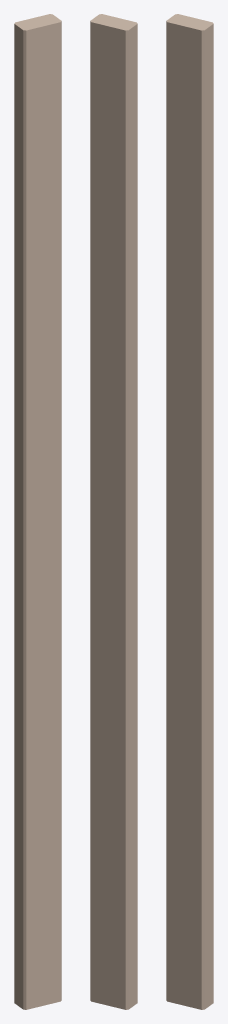
File: Stud.fbx
The picture shows the model from 3 angles, left to right: view 1: azimuth 30°, elevation 25°; view 2: azimuth 150°, elevation 25°; view 3: azimuth 330°, elevation 25°; orthographic projection.
Visible parts, largest first — view 1: stud, stud_short; view 2: stud, stud_short; view 3: stud, stud_short.
Part boxes in pixels (x1=…): stud: x1=14, y1=14, x2=61, y2=1009; stud_short: x1=14, y1=440, x2=61, y2=590; stud: x1=90, y1=14, x2=137, y2=1009; stud_short: x1=90, y1=440, x2=137, y2=590; stud: x1=166, y1=14, x2=213, y2=1009; stud_short: x1=166, y1=440, x2=213, y2=590.
Bounding box in the file's own units: 10 × 244 × 5.
